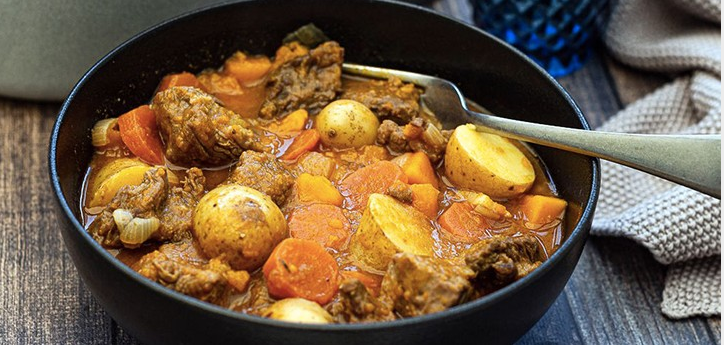carottes: (281, 133, 319, 151)
oignon: (113, 213, 159, 240)
pomme: (202, 185, 275, 251)
sauce: (536, 163, 552, 195)
viande de boeuf: (158, 87, 239, 154)
